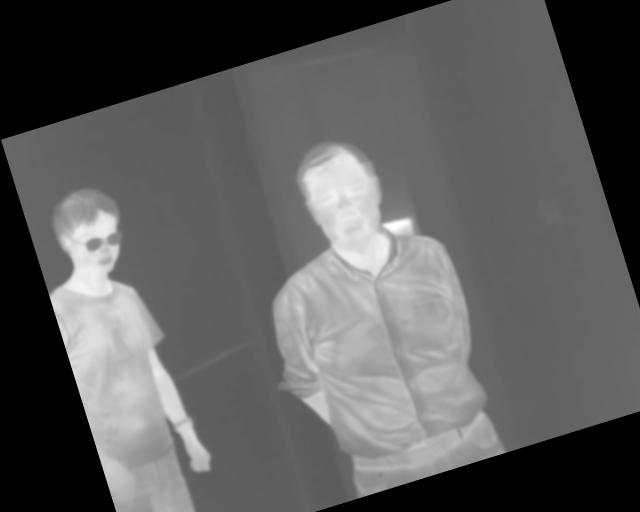face: (286, 128, 399, 262), (44, 178, 138, 286)
